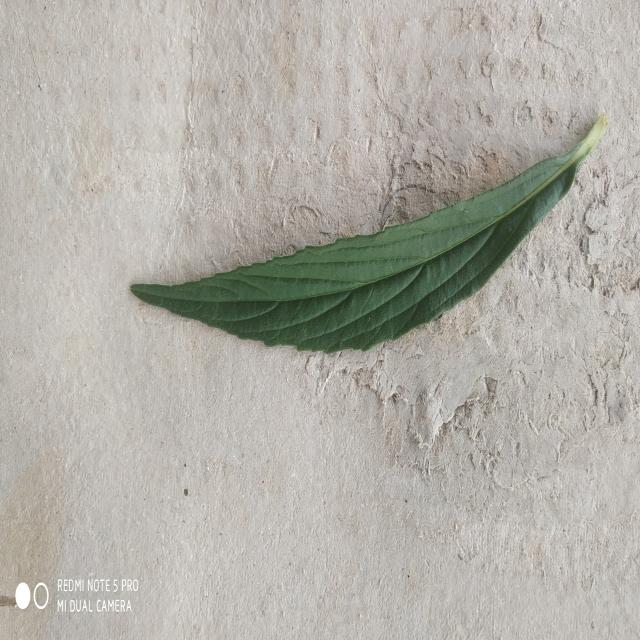thambe: (131, 113, 608, 353)
